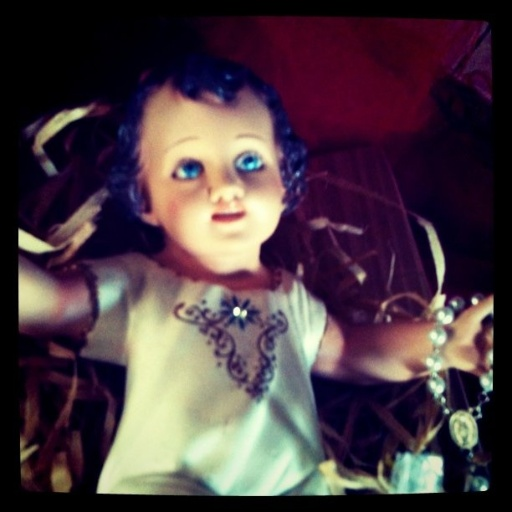hand: (444, 291, 497, 376)
